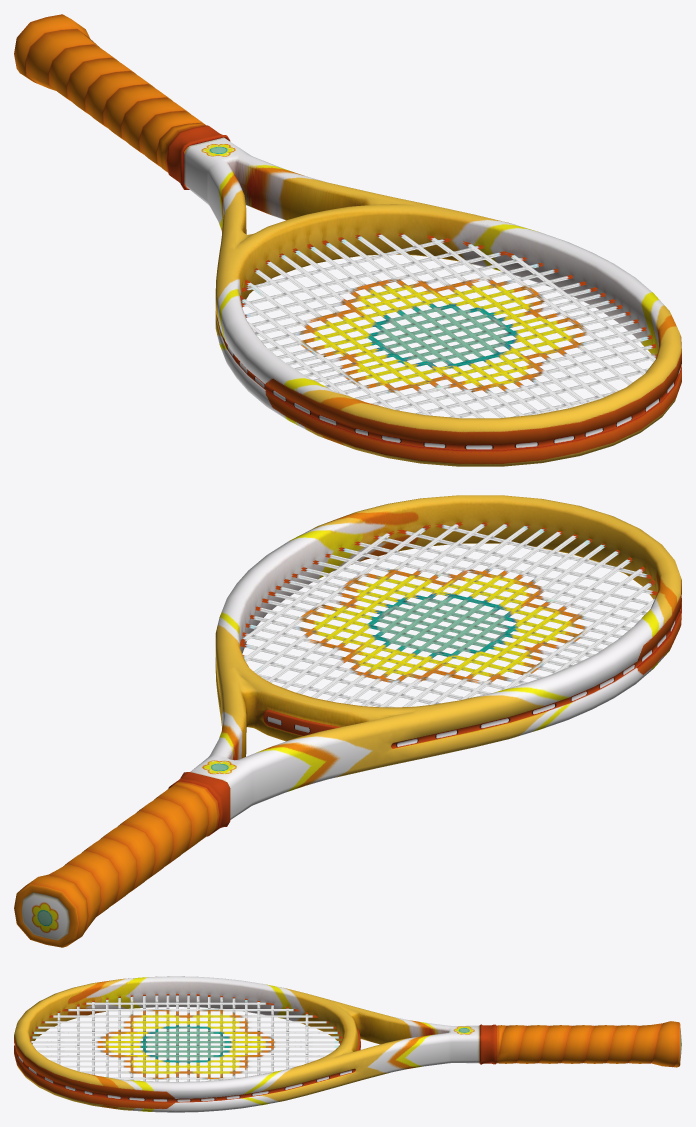
The model's file is RacquetDaisy.obj.
3 renders of one model, top to bottom at view 1: azimuth 30°, elevation 25°; view 2: azimuth 150°, elevation 25°; view 3: azimuth 270°, elevation 25°, orthographic. The views are drawn at different scales.
Visible parts, largest first — view 1: TennisRacquet_Daisy; view 2: TennisRacquet_Daisy; view 3: TennisRacquet_Daisy.
Part boxes in pixels (left/top/right/bottom): TennisRacquet_Daisy: left=14, top=14, right=681, bottom=466; TennisRacquet_Daisy: left=14, top=495, right=681, bottom=947; TennisRacquet_Daisy: left=14, top=976, right=681, bottom=1112.
Bounding box in the file's own units: 4.6 × 0.7137 × 11.49.
Materials: 2 (2 with a texture image).
